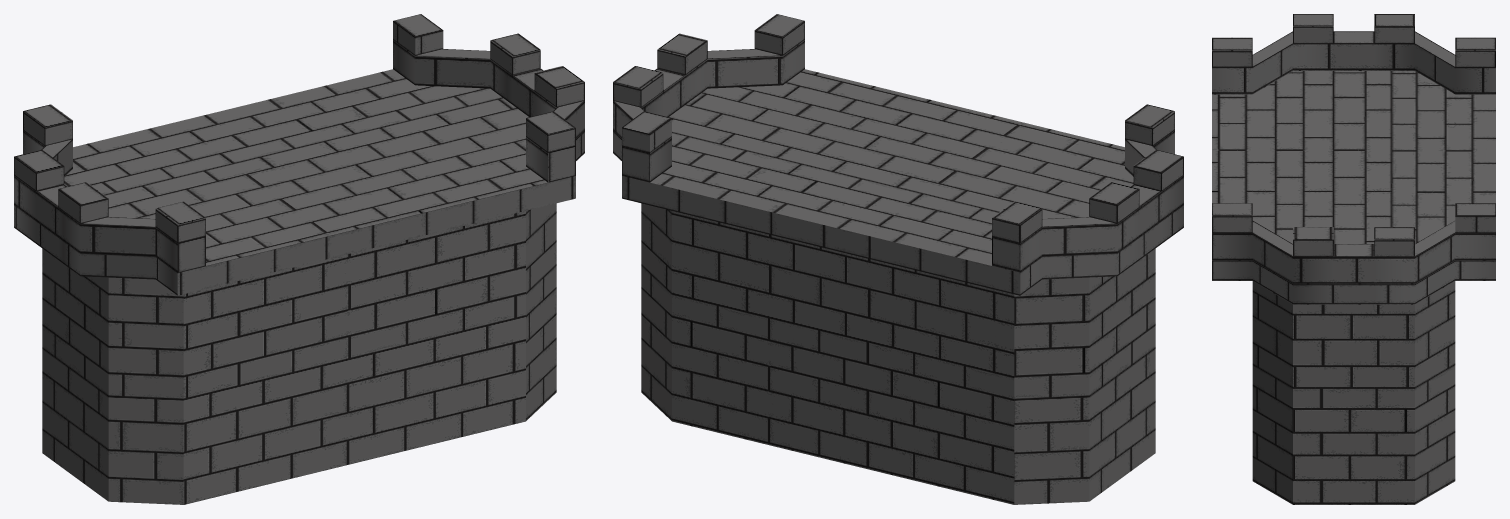
Rendered from bridgeSupport.fbx.
3 renders of one model, left to right at view 1: azimuth 30°, elevation 25°; view 2: azimuth 150°, elevation 25°; view 3: azimuth 270°, elevation 25°, orthographic. The views are drawn at different scales.
Visible parts, largest first — view 1: bridgeSupport_low; view 2: bridgeSupport_low; view 3: bridgeSupport_low.
Boxes of the visible parts, x1,y1,x2,y2 form: bridgeSupport_low: (14, 14, 584, 504); bridgeSupport_low: (613, 14, 1183, 504); bridgeSupport_low: (1212, 14, 1495, 504).
Size of the model in its own units: 1147 by 660 by 610.
Materials: 1 (1 with a texture image).
